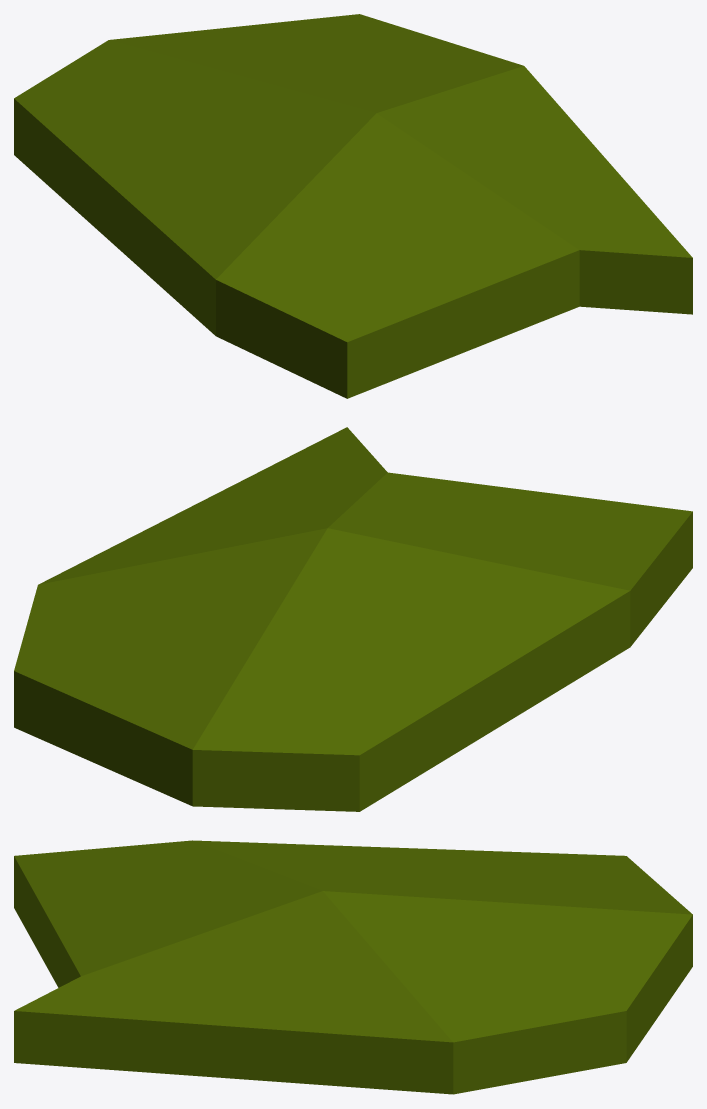
Rendered from tank_destroyed_5.glb.
3 renders of one model, top to bottom at view 1: azimuth 30°, elevation 25°; view 2: azimuth 150°, elevation 25°; view 3: azimuth 270°, elevation 25°, orthographic. The views are drawn at different scales.
Visible parts, largest first — view 1: tank_destroyed_5; view 2: tank_destroyed_5; view 3: tank_destroyed_5.
Boxes of the visible parts, bbox=[...] form: tank_destroyed_5: bbox=[14, 14, 692, 398]; tank_destroyed_5: bbox=[14, 427, 692, 811]; tank_destroyed_5: bbox=[14, 840, 692, 1094].
Size of the model in its own units: 0.5321 by 0.1295 by 0.7559.
1 material, 1 textured.
